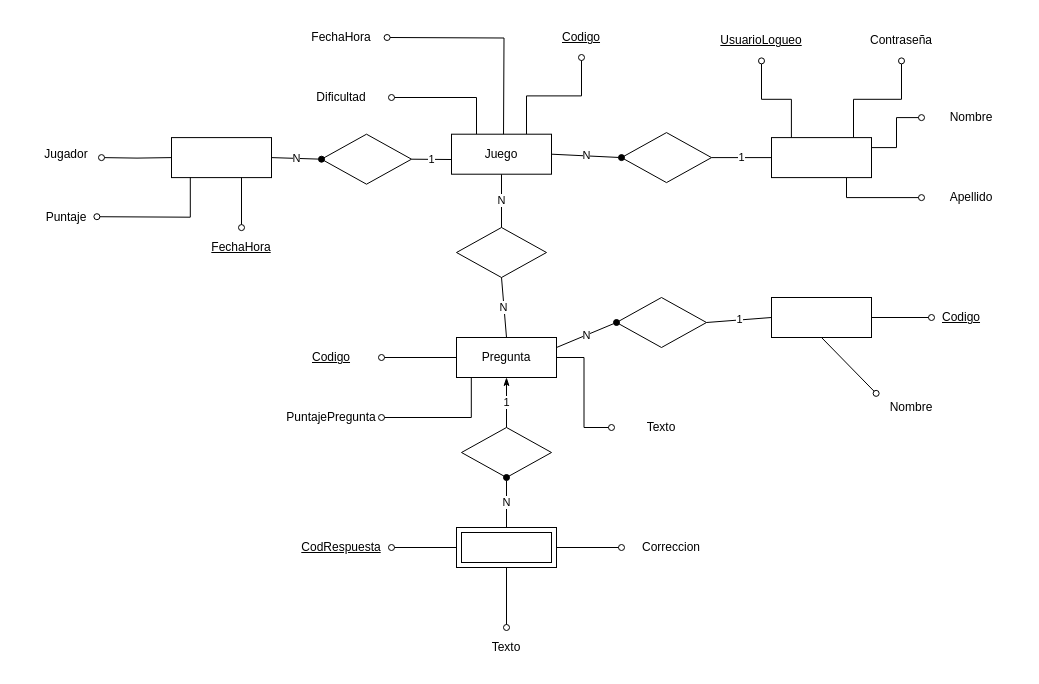
Some shapes in this 1039 by 684 pixel diagram are drawn without their labels. The shapes that lost their labels are listed below. From the top down, each one's centre as x and y in pixels, then its label:
point (221, 157): Jugada
point (366, 158): Genera
point (666, 157): Gestiona
point (821, 157): UsuarioAdmin
point (501, 252): Asigna
point (661, 322): Asociada
point (821, 317): CategPregunta
point (506, 452): De
point (506, 547): Respuesta
